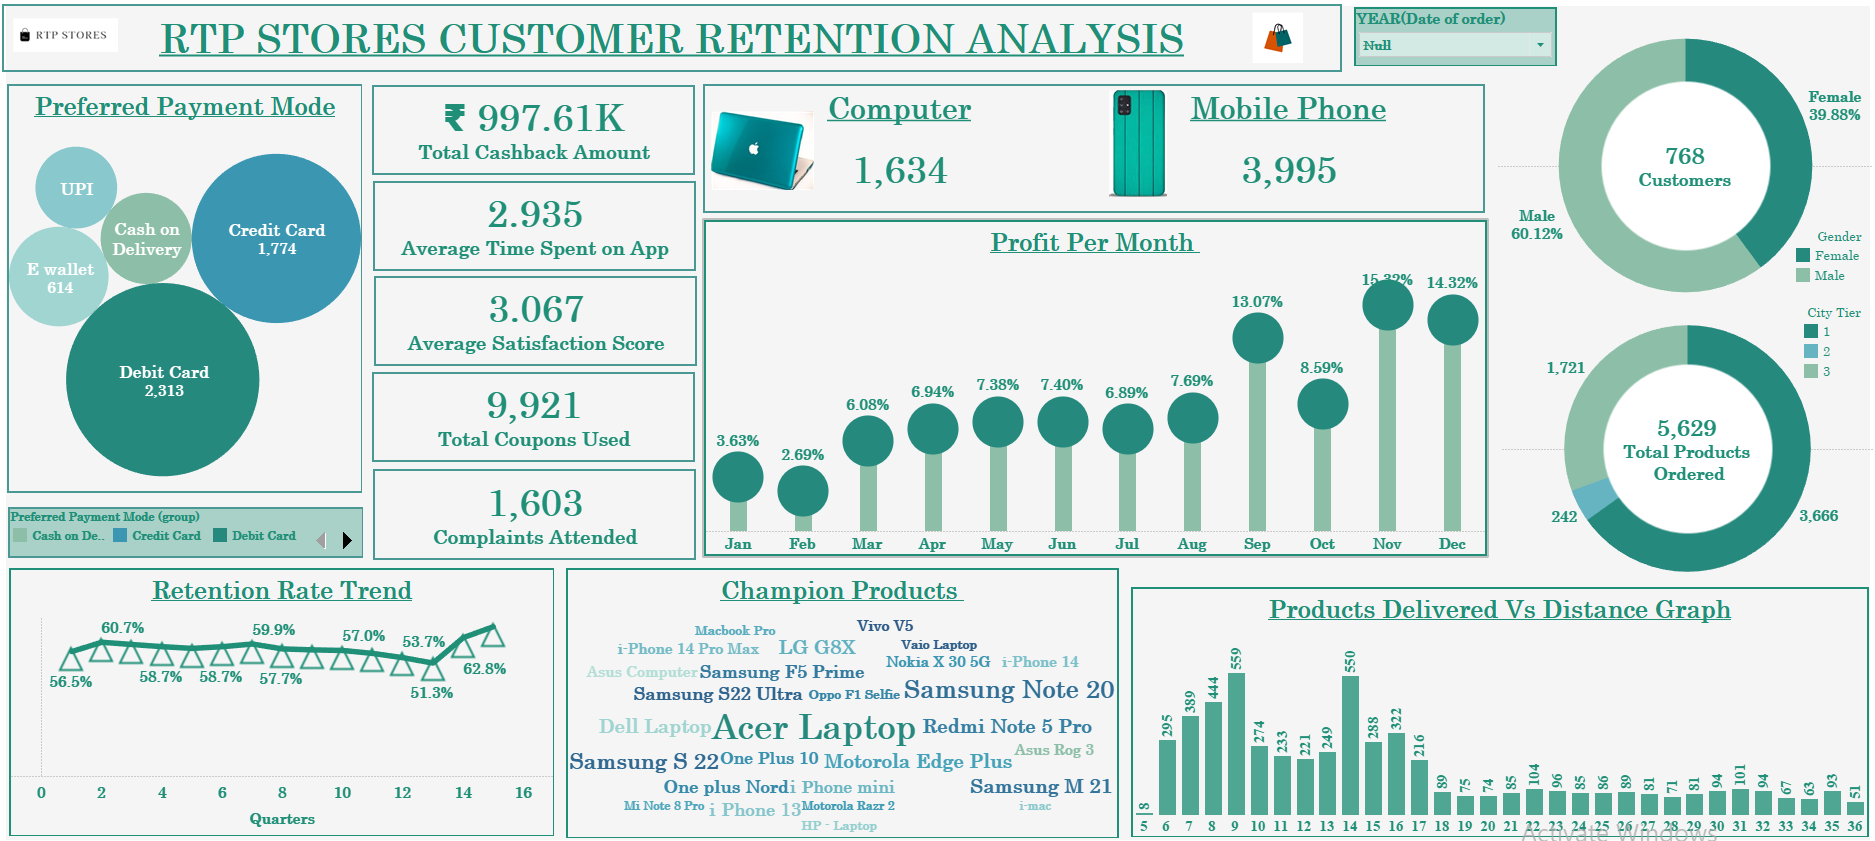

What the dashboard file says about the page in this screenshot:
{"tool":"tableau","page":{"name":"Dashboard 1","canvas":[1900,800],"ordinal":0},"visuals":[{"type":"text","box":[4.4,6,1353.9,64]},{"type":"filter","title":"Profit per month","param":"[federated.09ot5e00wr6qb216fnj670c55kvd].[yr:Date of order:ok]","box":[1370.2,8,205.2,56]},{"type":"image","param":"Image/11.png","box":[1171.5,12,175.9,50]},{"type":"image","param":"Image/11.png","box":[14.1,13,175.9,50]},{"type":"worksheet","title":"Gender","mark":"Pie","rows":["Calculation_511158576168792065","Calculation_511158576168824835"],"box":[1515.6,17,378.9,281]},{"type":"worksheet","title":"Payment mode","mark":"Circle","box":[9,81,368,385]},{"type":"worksheet","title":"Preferred login device","mark":"Text","box":[712.2,81,790.4,121]},{"type":"worksheet","title":"Total Cashback","mark":"Automatic","box":[380,82,323,96]},{"type":"image","param":"Image/lappy2edited.png","box":[720.9,85,104.2,118]},{"type":"image","param":"Image/mobile1edited.png","box":[1122.6,87,74.9,101]},{"type":"worksheet","title":"Coupons Used","mark":"Automatic","box":[380,173,324,99]},{"type":"worksheet","title":"Profit per month","mark":"Circle","rows":["Profit (Rs)","Profit (Rs)"],"cols":["Date of order"],"box":[713,209,792,340]},{"type":"legend","title":"Gender","param":"[federated.09ot5e00wr6qb216fnj670c55kvd].[none:Gender:nk]","box":[1808.8,233,94.4,60]},{"type":"worksheet","title":"Avg Time on App","mark":"Automatic","box":[381,265,322,98]},{"type":"worksheet","title":"Products solds as per the city tier","mark":"Pie","rows":["Calculation_511158576171282437","Calculation_511158576171323399"],"box":[1520,293,374.6,263]},{"type":"legend","title":"Products solds as per the city tier","param":"[federated.09ot5e00wr6qb216fnj670c55kvd].[none:CityTier:nk]","box":[1833.8,310,66.2,79]},{"type":"worksheet","title":"Satisfaction Score","mark":"Automatic","box":[380,354,321,98]},{"type":"worksheet","title":"Complaints","mark":"Automatic","box":[380,451,320,102]},{"type":"legend","title":"Payment mode","param":"[federated.09ot5e00wr6qb216fnj670c55kvd].[Preferred Payment Mode (group)]","box":[10,479,359,65]},{"type":"worksheet","title":"Retention Rate Trend","mark":"Automatic","rows":["Calculation_499618101203132417","Calculation_499618101203132417"],"cols":["Calculation_499618101202706432"],"box":[11,552,551,237]},{"type":"worksheet","title":"Most purchasd champion product","mark":"Text","box":[574,552,560,239]},{"type":"worksheet","title":"Delivery Vs Distance","mark":"Automatic","rows":["Purchased Product"],"cols":["WarehouseToHome"],"box":[1145.4,554,745.9,236]}]}

Visuals, with their boxes in screenshot pixels (x1, y1, x2, y2):
text: region(0, 6, 1356, 71)
"Profit per month" filter: region(1368, 8, 1575, 65)
image: region(1167, 12, 1345, 63)
image: region(0, 13, 177, 64)
"Gender" worksheet (Pie marks): region(1515, 17, 1874, 301)
"Payment mode" worksheet (Circle marks): region(0, 82, 366, 470)
"Preferred login device" worksheet (Text marks): region(704, 82, 1501, 204)
"Total Cashback" worksheet: region(369, 83, 695, 180)
image: region(713, 86, 818, 205)
image: region(1118, 88, 1194, 190)
"Coupons Used" worksheet: region(369, 175, 696, 274)
"Profit per month" worksheet (Circle marks): region(705, 211, 1504, 554)
"Gender" legend: region(1810, 235, 1874, 296)
"Avg Time on App" worksheet: region(370, 267, 695, 366)
"Products solds as per the city tier" worksheet (Pie marks): region(1519, 296, 1874, 561)
"Products solds as per the city tier" legend: region(1836, 313, 1874, 392)
"Satisfaction Score" worksheet: region(369, 357, 693, 456)
"Complaints" worksheet: region(369, 455, 692, 558)
"Payment mode" legend: region(0, 483, 358, 549)
"Retention Rate Trend" worksheet: region(0, 557, 552, 796)
"Most purchasd champion product" worksheet (Text marks): region(564, 557, 1130, 798)
"Delivery Vs Distance" worksheet: region(1141, 559, 1874, 797)
